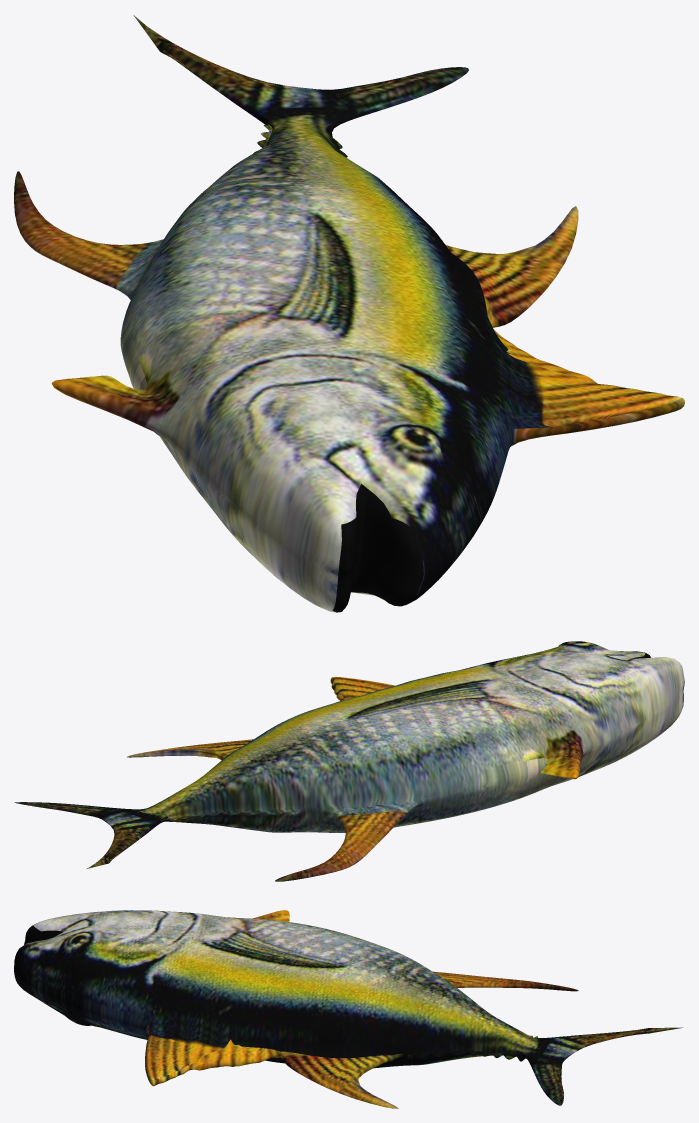
The model's file is tuna_rot.obj.
The picture shows the model from 3 angles, top to bottom: view 1: azimuth 30°, elevation 25°; view 2: azimuth 150°, elevation 25°; view 3: azimuth 270°, elevation 25°; orthographic projection. The views are drawn at different scales.
Parts seen in each view (by area): view 1: fish2; view 2: fish2; view 3: fish2.
Part boxes in pixels (x1,y1,x2,y2): fish2: (14,15,684,612); fish2: (14,641,684,881); fish2: (14,910,682,1108).
Bounding box in the file's own units: 0.6189 × 0.1545 × 0.9677.
Materials: 2 (1 with a texture image).
